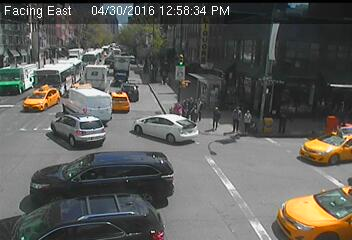neg: (17, 122, 41, 154), (67, 36, 90, 67), (195, 192, 217, 222), (77, 158, 98, 185), (304, 17, 324, 44), (164, 44, 181, 67), (130, 145, 147, 167), (309, 66, 325, 88), (261, 164, 277, 185), (259, 15, 275, 36), (22, 90, 37, 110), (106, 16, 121, 36), (261, 64, 276, 83), (211, 42, 225, 61), (29, 44, 43, 63), (210, 139, 224, 157), (66, 115, 78, 132), (284, 195, 296, 212), (54, 86, 66, 102), (336, 66, 348, 81), (183, 17, 195, 32), (106, 85, 114, 97)
pos: (173, 87, 203, 127), (224, 105, 247, 135), (329, 96, 351, 125), (240, 107, 258, 131), (207, 105, 224, 128), (274, 110, 288, 129)
